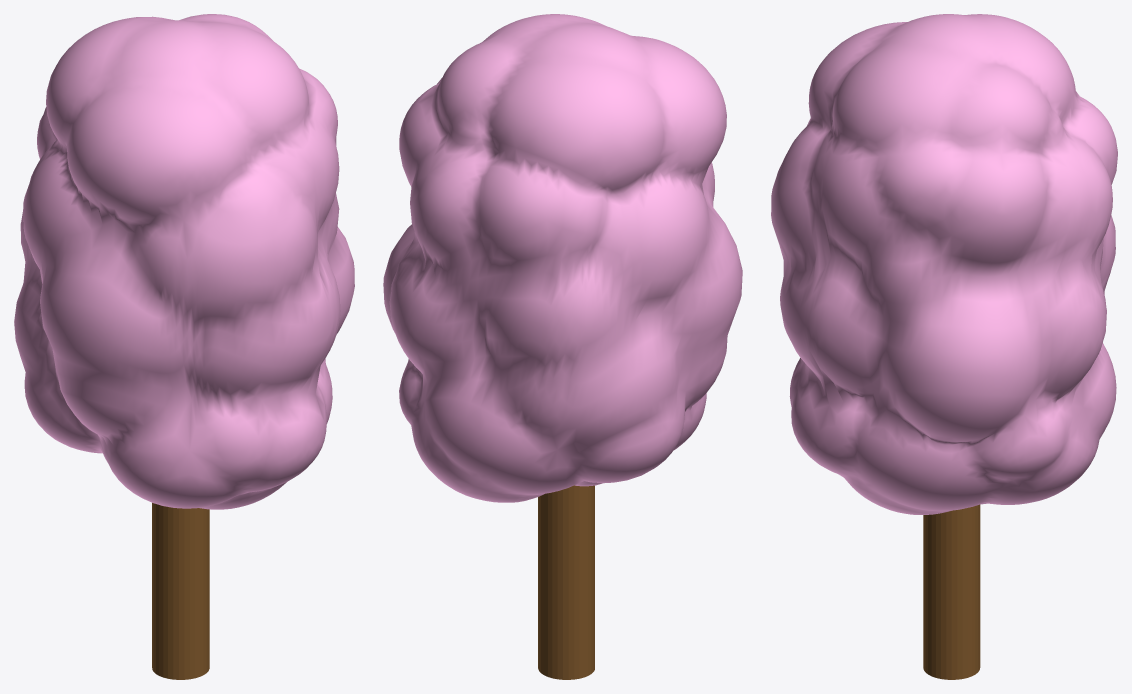
Rendered from watagasi_kansei.fbx.
3 renders of one model, left to right at view 1: azimuth 30°, elevation 25°; view 2: azimuth 150°, elevation 25°; view 3: azimuth 270°, elevation 25°, orthographic.
Visible parts, largest first — view 1: 円柱; view 2: 円柱; view 3: 円柱.
Part boxes in pixels (bbox=[...]): 円柱: bbox=[14, 14, 354, 679]; 円柱: bbox=[383, 14, 742, 679]; 円柱: bbox=[771, 14, 1117, 679].
Bounding box in the file's own units: 233 × 454 × 224.
Materials: 1 (1 with a texture image).
